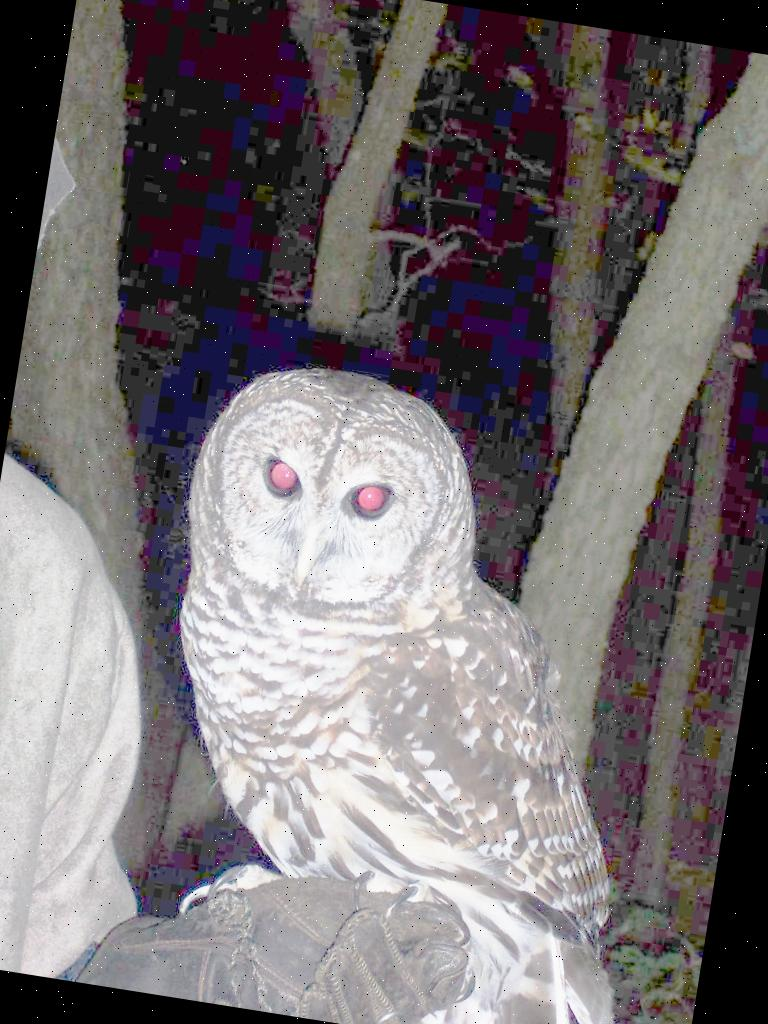Owl: (113, 348, 710, 1024)
